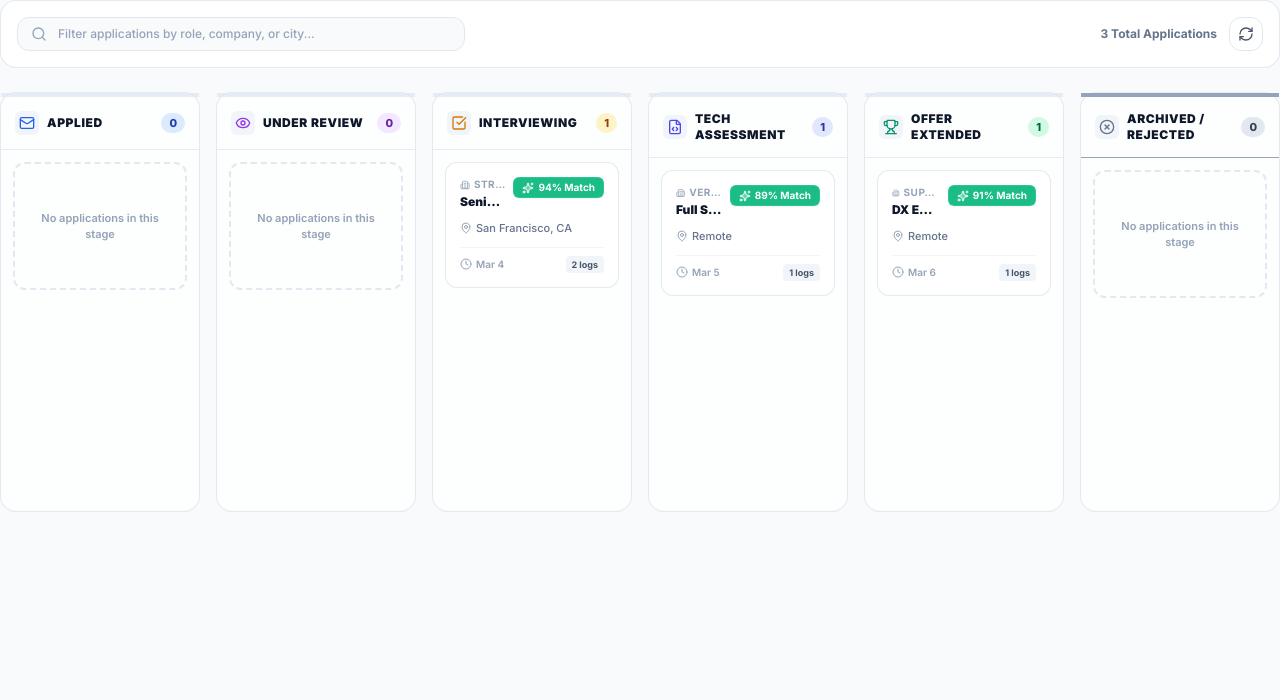
Test: ApplicationTrackingBoard Component › opens history drawer when an application card is clicked
What coordinates should you click on to do the following:
click the element with test id "app-card-app-01"
I would click on:
 (532, 225)
Its box is [445,162,619,288].
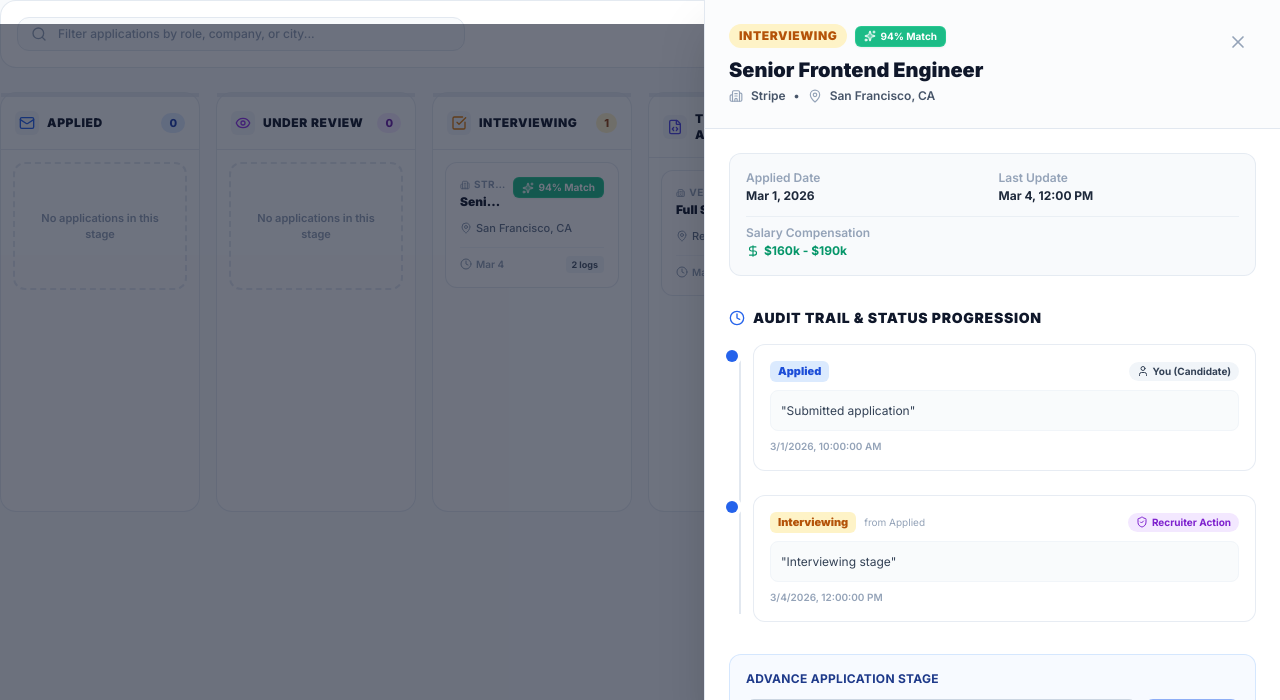
Check: the heading "Audit Trail & Status Progression" is shown, box [729,309,1042,326]
Check: the text "\"Submitted application\"" is shown, box [770,390,1239,431]
Check: the text "\"Interviewing stage\"" is shown, box [770,540,1239,582]
